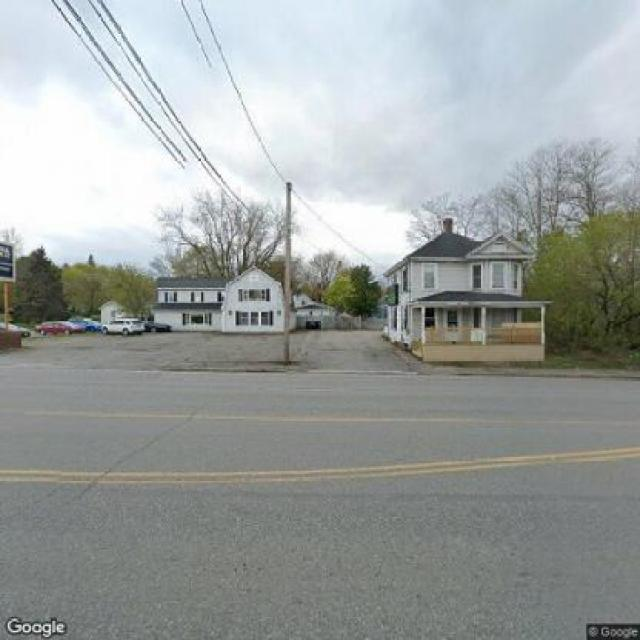pole: (267, 178, 310, 359)
